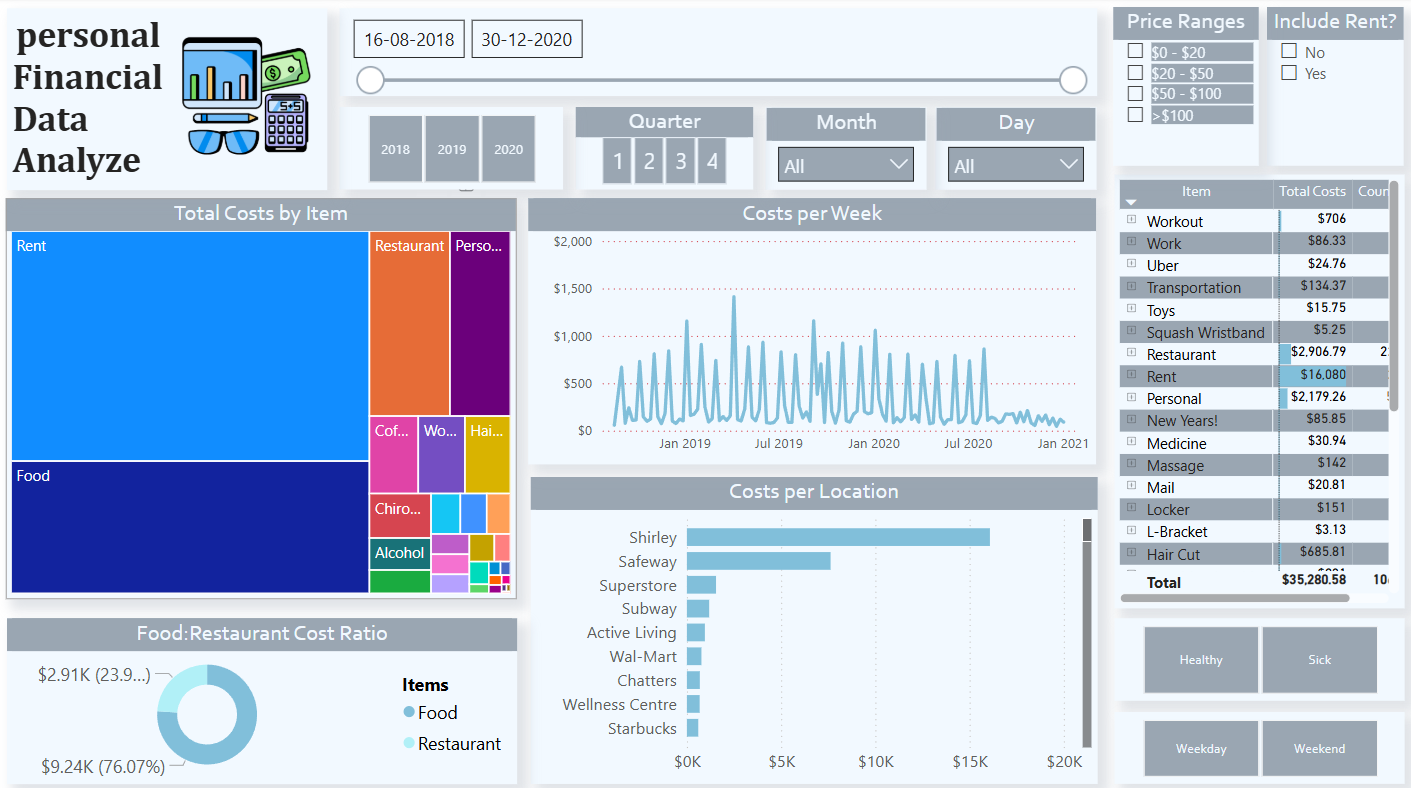

The page's visual inventory and layout, read from the dashboard file:
{"tool":"powerbi","page":{"name":"Executive Summary","canvas":[1280,720],"ordinal":0},"visuals":[{"type":"slicer","fields":{"Values":["Calendar_Lookup.Date"]},"box":[308.4,9.6,683.1,79.5],"z":1000},{"type":"treemap","title":"Total Costs by Item","fields":{"Values":["Finance_Data.Total_Costs"],"Group":["Item_Lookup.Item"]},"box":[8.4,181.9,460.2,361.4],"z":2000},{"type":"slicer","title":"Include Rent?","fields":{"Values":["Item_Lookup.Item(NoRent)"]},"box":[1145.3,9.4,123.5,143.5],"z":3000},{"type":"barChart","title":"Costs per Location","fields":{"Y":["Finance_Data.COST"],"Category":["Finance_Data.LOCATION"]},"box":[480.7,432.5,510.8,277.1],"z":4000},{"type":"lineChart","title":"Costs per Week","fields":{"Y":["Finance_Data.COST"],"Category":["Calendar_Lookup.End_of_Week"]},"box":[479.5,181.9,512,239.8],"z":5000},{"type":"donutChart","title":"Food:Restaurant Cost Ratio","fields":{"Y":["Finance_Data.COST"],"Category":["Finance_Data.Food(Boolean)"]},"box":[8.7,559.8,460.3,149.3],"z":6000},{"type":"pivotTable","fields":{"Rows":["Item_Lookup.Item","Finance_Data.LOCATION","Finance_Data.Price_Ranges"],"Values":["Finance_Data.Total_Costs","Finance_Data.ITEM"]},"box":[1007.2,160.2,261.4,391.6],"z":7000},{"type":"slicer","title":"Day","fields":{"Values":["Calendar_Lookup.Day_Name"]},"box":[847,98.8,144.6,74.7],"z":8000},{"type":"slicer","title":"Month","fields":{"Values":["Calendar_Lookup.Month_Name"]},"box":[692.8,98.8,144.6,74.7],"z":9000},{"type":"slicer","title":"Quarter","fields":{"Values":["Calendar_Lookup.Quarter"]},"box":[521.7,98.8,160.2,74.7],"z":10000},{"type":"slicer","fields":{"Values":["Finance_Data.Sick(Boolean)"]},"box":[1007.2,560.2,261.4,74.7],"z":11000},{"type":"slicer","title":"Price Ranges","fields":{"Values":["Finance_Data.Price_Ranges"]},"box":[1007.1,9.4,131.2,143.5],"z":12000},{"type":"slicer","fields":{"Values":["Calendar_Lookup.Year"]},"box":[308.4,98.8,201.2,74.7],"z":13000},{"type":"slicer","fields":{"Values":["Calendar_Lookup.Weekday"]},"box":[1007.2,644.6,261.4,65.1],"z":14000},{"type":"textbox","box":[8.8,10,288.8,163.8],"z":14001},{"type":"image","box":[153.8,25,143.8,128.8],"z":14002}]}

Visuals, with their boxes in screenshot pixels (x1, y1, x2, y2), scaled from the page's 1280x720 canvas onto the 1411x788 screenshot:
slicer - Calendar_Lookup.Date: crop(340, 11, 1093, 98)
"Total Costs by Item" treemap: crop(9, 199, 517, 595)
"Include Rent?" slicer: crop(1263, 10, 1399, 167)
"Costs per Location" barChart: crop(530, 473, 1093, 777)
"Costs per Week" lineChart: crop(529, 199, 1093, 462)
"Food:Restaurant Cost Ratio" donutChart: crop(10, 613, 517, 776)
pivotTable - Item_Lookup.Item x Finance_Data.LOCATION: crop(1110, 175, 1398, 604)
"Day" slicer: crop(934, 108, 1093, 190)
"Month" slicer: crop(764, 108, 923, 190)
"Quarter" slicer: crop(575, 108, 752, 190)
slicer - Finance_Data.Sick(Boolean): crop(1110, 613, 1398, 695)
"Price Ranges" slicer: crop(1110, 10, 1255, 167)
slicer - Calendar_Lookup.Year: crop(340, 108, 562, 190)
slicer - Calendar_Lookup.Weekday: crop(1110, 705, 1398, 777)
textbox: crop(10, 11, 328, 190)
image: crop(170, 27, 328, 168)
